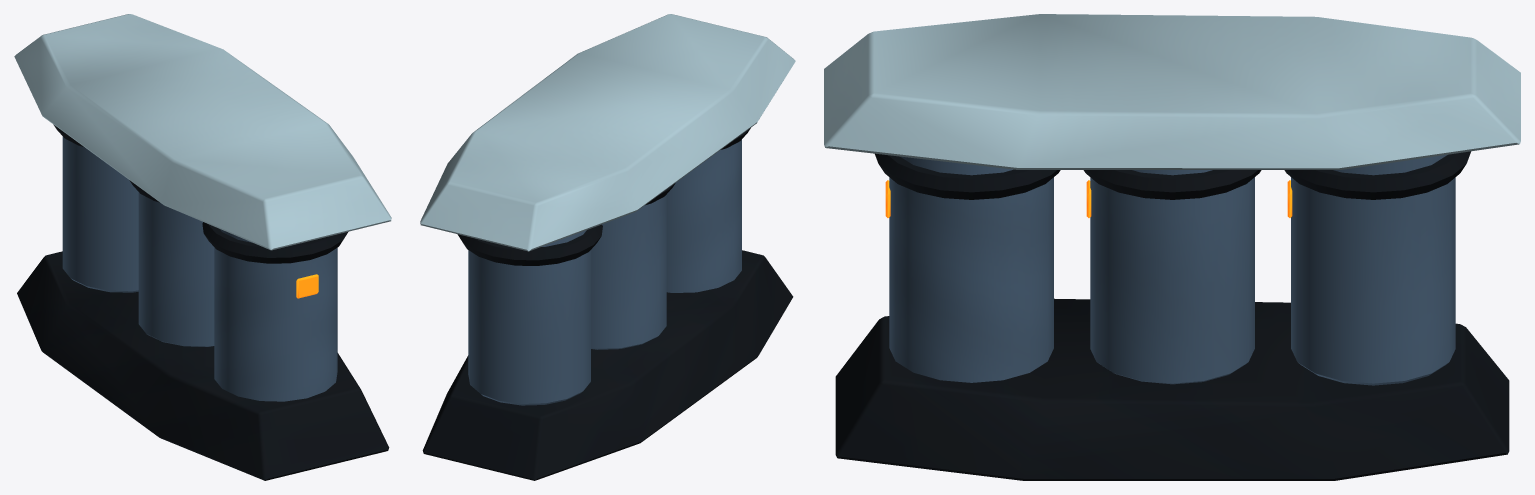
Rendered from Power_Bank.fbx.
The picture shows the model from 3 angles, left to right: view 1: azimuth 30°, elevation 25°; view 2: azimuth 150°, elevation 25°; view 3: azimuth 270°, elevation 25°; orthographic projection. The views are drawn at different scales.
Parts seen in each view (by area): view 1: Power_Bank; view 2: Power_Bank; view 3: Power_Bank.
Part boxes in pixels (x1,y1,x2,y2): Power_Bank: [14, 14, 391, 480]; Power_Bank: [420, 14, 795, 480]; Power_Bank: [824, 14, 1520, 480].
Bounding box in the file's own units: 1.24 × 1.62 × 2.88.
